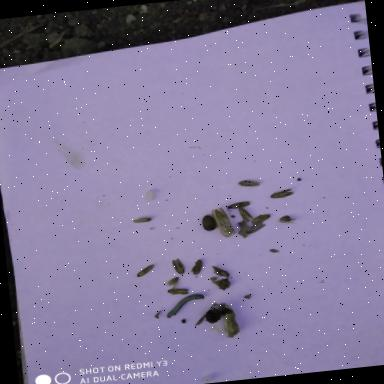abw: (210, 204, 238, 240)
pbw: (268, 186, 296, 200), (134, 262, 158, 278), (225, 198, 252, 212), (188, 256, 206, 276), (170, 256, 188, 276), (245, 220, 268, 235), (250, 211, 274, 224), (238, 177, 261, 189), (237, 206, 254, 222), (131, 214, 154, 225), (168, 286, 190, 297)
